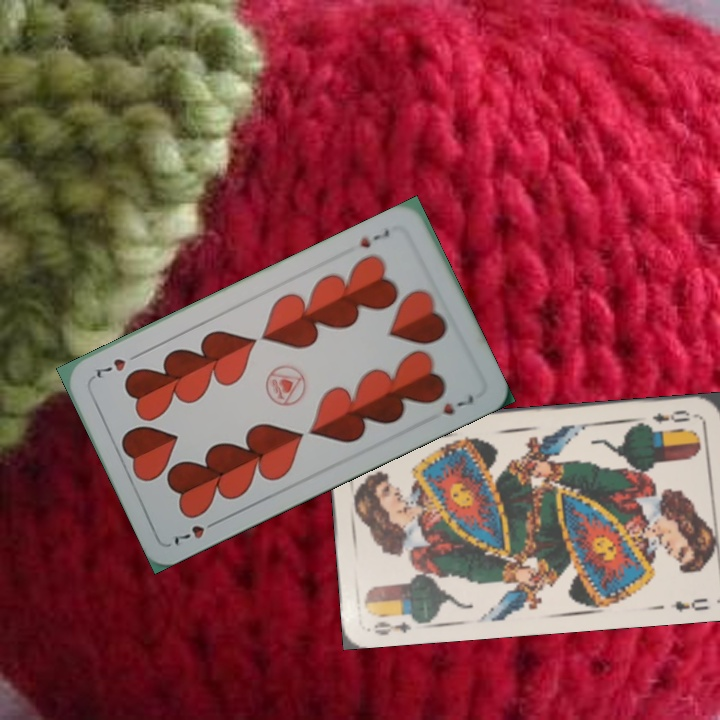EO: (648, 405, 693, 427), (370, 617, 414, 638)
H7: (170, 515, 223, 550), (356, 225, 393, 251)
